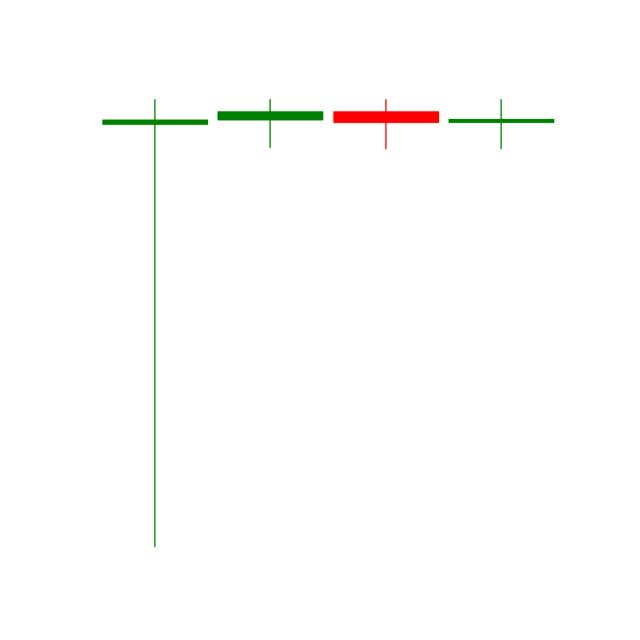Long-Legged Doji: (100, 98, 210, 553)
Standard Doji: (446, 93, 560, 151), (331, 96, 442, 149), (216, 96, 324, 146)
